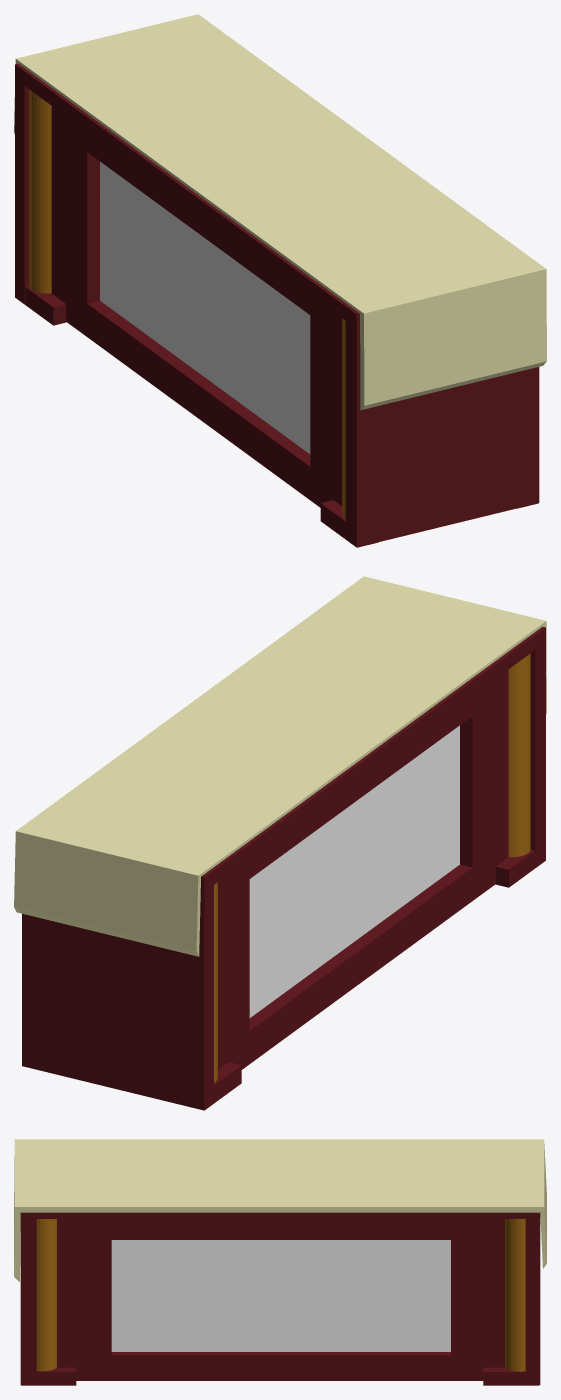
The model's file is Altar.fbx.
3 views of the same model, one above another, from view 1: azimuth 30°, elevation 25°; view 2: azimuth 150°, elevation 25°; view 3: azimuth 270°, elevation 25° (orthographic). The views are drawn at different scales.
Parts seen in each view (by area): view 1: Cylinder.002; view 2: Cylinder.002; view 3: Cylinder.002.
Part boxes in pixels (left/top/right/bottom): Cylinder.002: left=14, top=14, right=546, bottom=547; Cylinder.002: left=14, top=576, right=546, bottom=1110; Cylinder.002: left=14, top=1139, right=546, bottom=1385.
Size of the model in its own units: 204 by 248 by 665.
